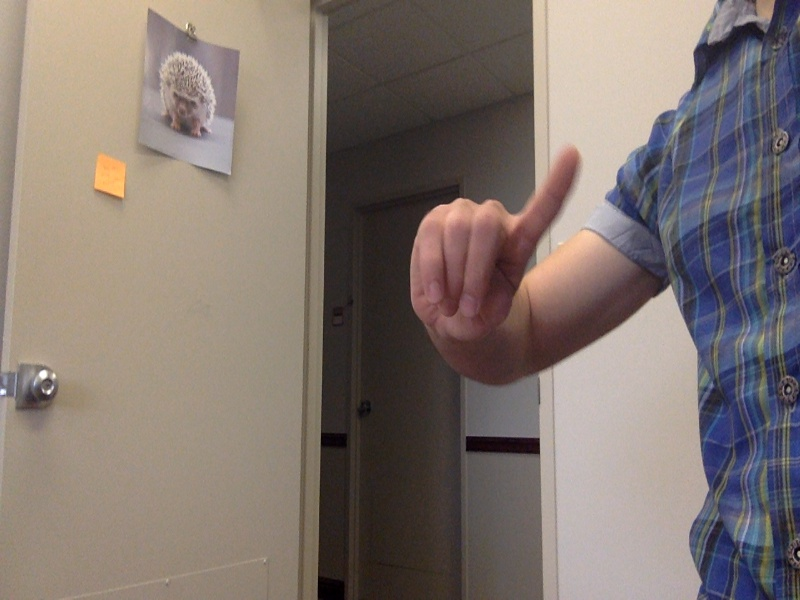1-hand: (408, 147, 583, 371)
